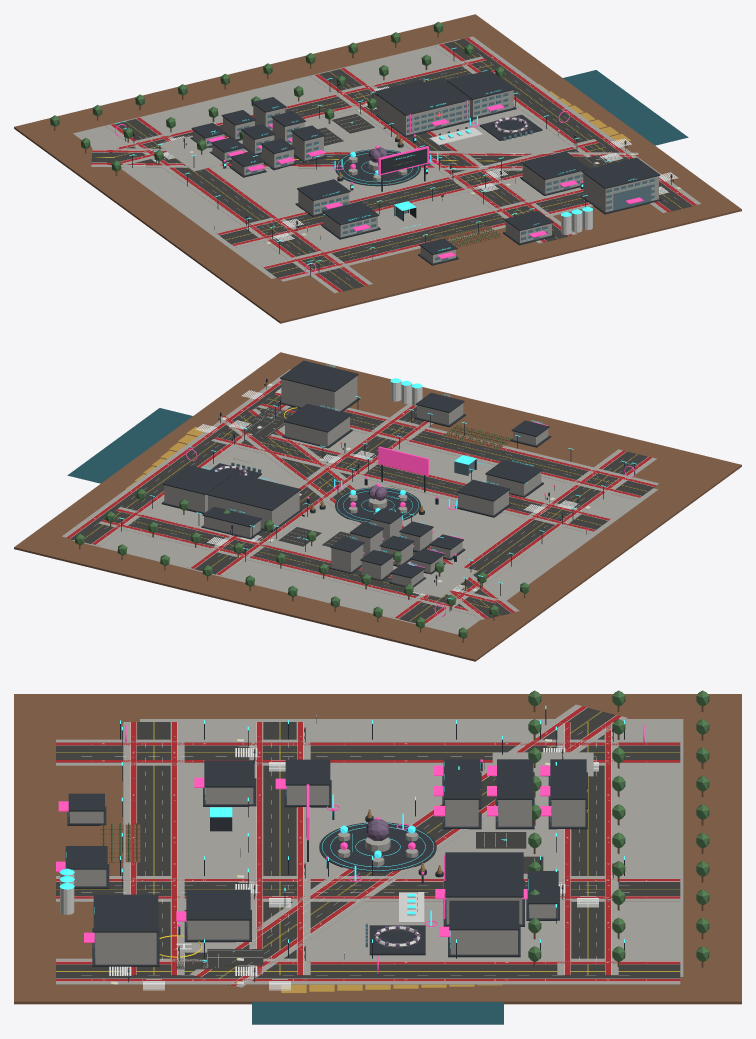
File: ENV_Arapiraca_RealMaterials_v3_20261005.glb
3 views of the same model, one above another, from view 1: azimuth 30°, elevation 25°; view 2: azimuth 150°, elevation 25°; view 3: azimuth 270°, elevation 25° (orthographic). The views are drawn at different scales.
Parts seen in each view (by area): view 1: ENV_ARAP_Base, ENV_ARAP_UrbanPlate, ROAD_WEST_COLLECTOR, ROAD_SOUTH_ACCESS, ROAD_OUTER_COLLECTOR, ENV_ARAP_SeaPortal, ROAD_EAST_WEST, ROAD_EAST_COLLECTOR, BLD_PREP_Emergency_HEA_Concept_Roof, ROAD_AL220_HEA_AXIS, ROAD_NORTH_ACCESS, BLD_PREP_Emergency_HEA_Concept_Core (+41 smaller); view 2: ENV_ARAP_Base, ENV_ARAP_UrbanPlate, ROAD_WEST_COLLECTOR, ROAD_SOUTH_ACCESS, ENV_ARAP_SeaPortal, ROAD_EAST_WEST, ROAD_OUTER_COLLECTOR, ROAD_NORTH_ACCESS, ROAD_EAST_COLLECTOR, ROAD_AL220_HEA_AXIS, BLD_PREP_Emergency_HEA_Concept_Roof, BLD_HelicopterHangar_Core (+47 smaller); view 3: ENV_ARAP_Base, ENV_ARAP_UrbanPlate, ROAD_OUTER_COLLECTOR, ROAD_WEST_COLLECTOR, ENV_ARAP_SeaPortal, ROAD_SOUTH_ACCESS, ROAD_NORTH_ACCESS, ROAD_EAST_WEST, ROAD_AL220_HEA_AXIS, ROAD_EAST_COLLECTOR, BLD_PREP_Emergency_HEA_Concept_Roof, PLAZA_Base (+56 smaller).
Part boxes in pixels (left/top/right/bottom): ENV_ARAP_Base: left=14, top=14, right=741, bottom=323; ENV_ARAP_UrbanPlate: left=73, top=39, right=568, bottom=278; ROAD_WEST_COLLECTOR: left=115, top=119, right=364, bottom=291; ROAD_SOUTH_ACCESS: left=266, top=192, right=587, bottom=277; ROAD_OUTER_COLLECTOR: left=443, top=38, right=692, bottom=211; ENV_ARAP_SeaPortal: left=563, top=70, right=688, bottom=145; ROAD_EAST_WEST: left=219, top=146, right=611, bottom=244; ROAD_EAST_COLLECTOR: left=319, top=69, right=568, bottom=241; BLD_PREP_Emergency_HEA_Concept_Roof: left=377, top=78, right=471, bottom=115; ROAD_AL220_HEA_AXIS: left=91, top=152, right=628, bottom=166; ROAD_NORTH_ACCESS: left=109, top=60, right=496, bottom=161; BLD_PREP_Emergency_HEA_Concept_Core: left=378, top=96, right=469, bottom=135; ENV_ARAP_Base: left=14, top=352, right=741, bottom=661; ENV_ARAP_UrbanPlate: left=73, top=421, right=658, bottom=634; ROAD_WEST_COLLECTOR: left=399, top=451, right=647, bottom=623; ROAD_SOUTH_ACCESS: left=264, top=395, right=654, bottom=495; ENV_ARAP_SeaPortal: left=67, top=408, right=192, bottom=483; ROAD_EAST_WEST: left=217, top=428, right=607, bottom=529; ROAD_OUTER_COLLECTOR: left=70, top=384, right=281, bottom=543; ROAD_NORTH_ACCESS: left=105, top=511, right=494, bottom=607; ROAD_EAST_COLLECTOR: left=195, top=406, right=424, bottom=574; ROAD_AL220_HEA_AXIS: left=232, top=411, right=510, bottom=618; BLD_PREP_Emergency_HEA_Concept_Roof: left=206, top=473, right=300, bottom=510; BLD_HelicopterHangar_Core: left=281, top=376, right=357, bottom=411; ENV_ARAP_Base: left=14, top=694, right=741, bottom=1004; ENV_ARAP_UrbanPlate: left=140, top=719, right=683, bottom=976; ROAD_OUTER_COLLECTOR: left=56, top=964, right=680, bottom=978; ROAD_WEST_COLLECTOR: left=56, top=745, right=680, bottom=759; ENV_ARAP_SeaPortal: left=252, top=1002, right=503, bottom=1024; ROAD_SOUTH_ACCESS: left=137, top=722, right=170, bottom=968; ROAD_NORTH_ACCESS: left=571, top=722, right=604, bottom=958; ROAD_EAST_WEST: left=263, top=722, right=296, bottom=973; ROAD_AL220_HEA_AXIS: left=201, top=708, right=615, bottom=984; ROAD_EAST_COLLECTOR: left=56, top=882, right=680, bottom=895; BLD_PREP_Emergency_HEA_Concept_Roof: left=445, top=852, right=523, bottom=897; PLAZA_Base: left=319, top=822, right=436, bottom=872.
Size of the model in its own units: 279 by 28.5 by 260.
